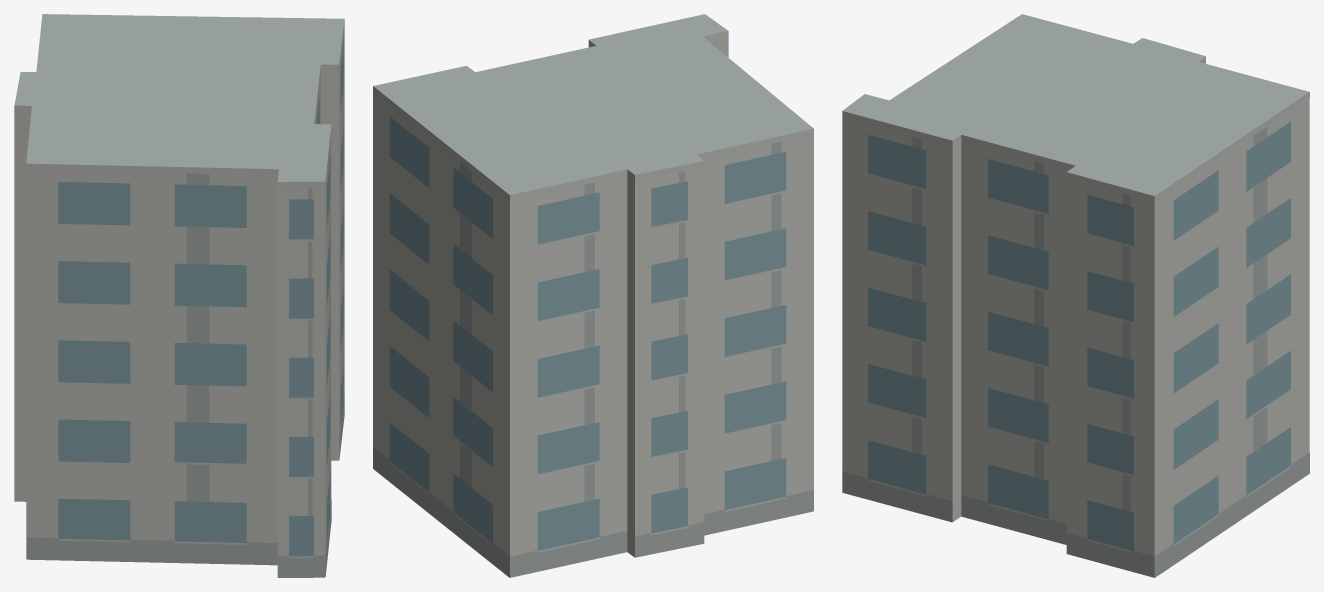
Rendered from survey-upis-33035490.glb.
3 views of the same model, side by side, from view 1: azimuth 30°, elevation 25°; view 2: azimuth 150°, elevation 25°; view 3: azimuth 270°, elevation 25° (orthographic). The views are drawn at different scales.
Parts seen in each view (by area): view 1: survey-upis-33035490.tmp; view 2: survey-upis-33035490.tmp; view 3: survey-upis-33035490.tmp.
Boxes of the visible parts, x1=… form: survey-upis-33035490.tmp: x1=14, y1=14, x2=344, y2=577; survey-upis-33035490.tmp: x1=373, y1=14, x2=813, y2=577; survey-upis-33035490.tmp: x1=842, y1=14, x2=1309, y2=577.
Bounding box in the file's own units: 15.76 × 15.4 × 17.1.
